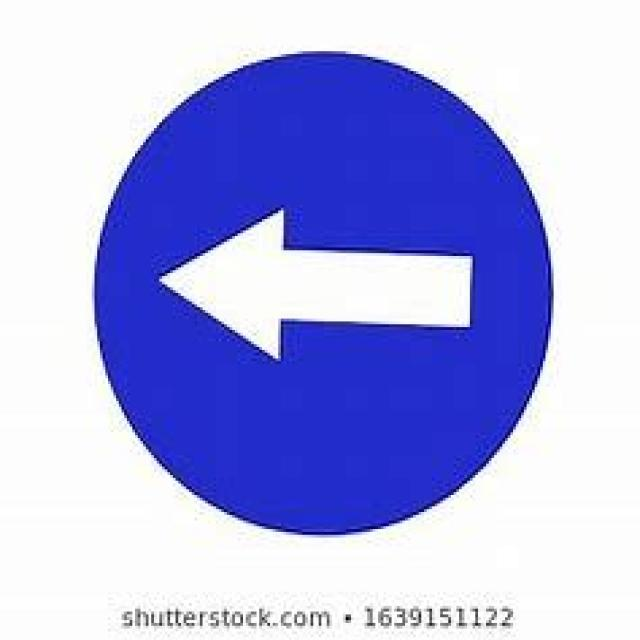COMPULSARY_TURN_LEFT: (89, 48, 557, 542)
